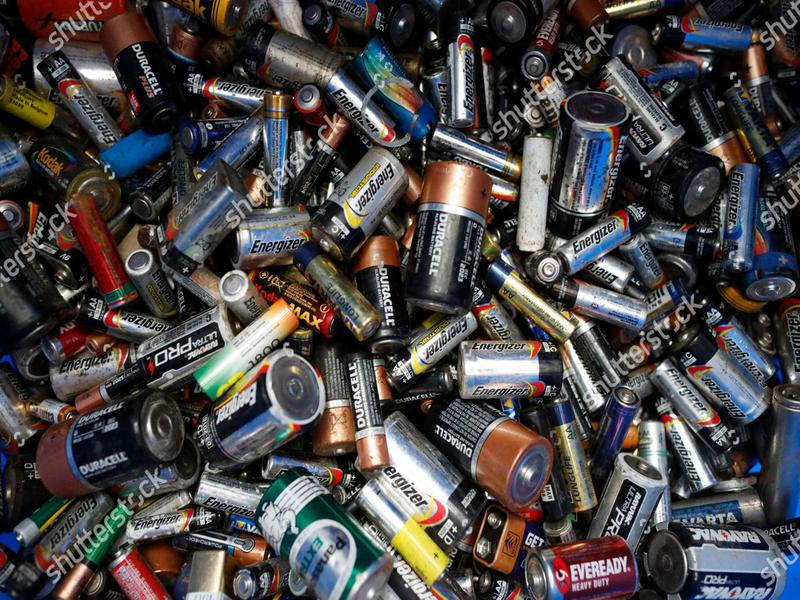battery: (247, 466, 409, 600), (184, 350, 328, 478), (33, 385, 187, 501), (421, 391, 557, 513), (399, 159, 496, 319), (543, 89, 638, 240), (182, 294, 304, 402), (305, 143, 412, 264), (643, 514, 793, 600), (349, 476, 455, 588), (96, 9, 187, 136), (645, 358, 743, 459), (455, 331, 568, 401), (519, 534, 638, 600), (336, 348, 395, 473), (300, 254, 383, 340), (547, 272, 654, 335), (547, 402, 606, 513), (436, 3, 480, 134), (719, 155, 764, 279), (258, 84, 300, 206), (117, 245, 183, 321), (644, 11, 757, 55), (121, 503, 226, 548)
